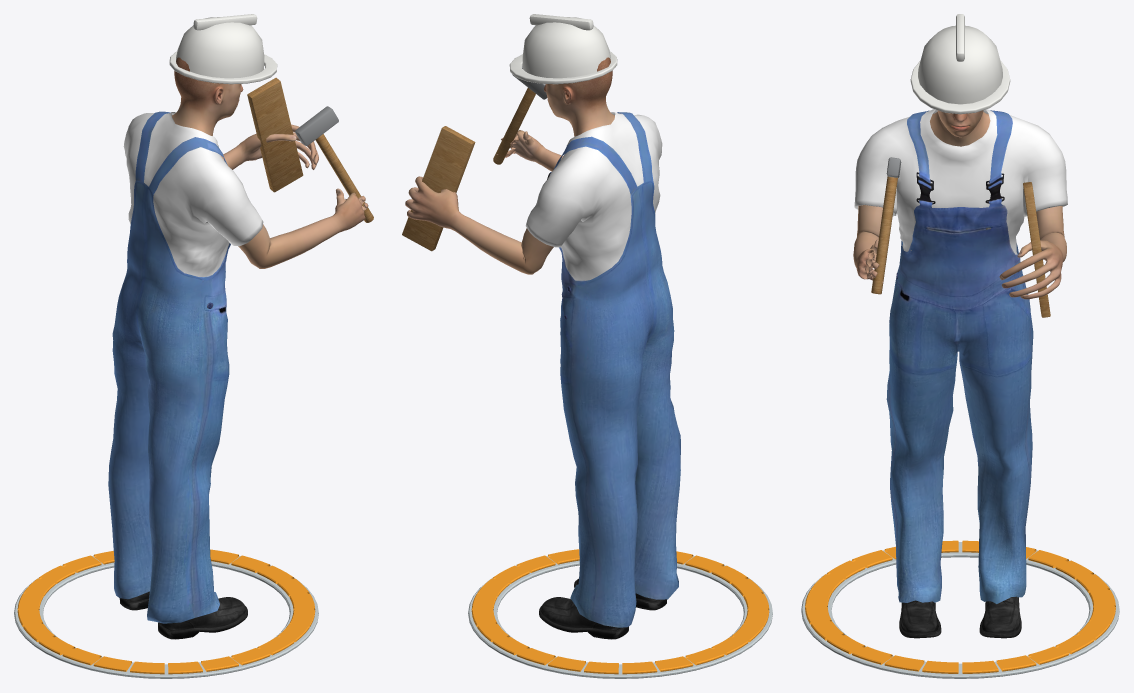
Rendered from MDO-OBR-003.glb.
3 renders of one model, left to right at view 1: azimuth 30°, elevation 25°; view 2: azimuth 150°, elevation 25°; view 3: azimuth 270°, elevation 25°, orthographic. The views are drawn at different scales.
Visible parts, largest first — view 1: MDO-OBR-003_pessoa_male_worksuit01, MDO-OBR-003_pessoa, MDO-OBR-003_capacete, MDO-OBR-003_ferE_tabua, MDO-OBR-003_anel_fundo, MDO-OBR-003_pessoa_shoes04, MDO-OBR-003_capacete_aba, MDO-OBR-003_ferD_cabeca, MDO-OBR-003_ferD_cabo, MDO-OBR-003_capacete_friso; view 2: MDO-OBR-003_pessoa_male_worksuit01, MDO-OBR-003_pessoa, MDO-OBR-003_capacete, MDO-OBR-003_anel_fundo, MDO-OBR-003_ferE_tabua, MDO-OBR-003_pessoa_shoes04, MDO-OBR-003_capacete_aba, MDO-OBR-003_ferD_cabo, MDO-OBR-003_capacete_friso; view 3: MDO-OBR-003_pessoa_male_worksuit01, MDO-OBR-003_pessoa, MDO-OBR-003_capacete, MDO-OBR-003_anel_fundo, MDO-OBR-003_pessoa_shoes04, MDO-OBR-003_capacete_aba, MDO-OBR-003_ferD_cabo, MDO-OBR-003_ferE_tabua.
Part boxes in pixels (box(x1,y1,x2,y2)): MDO-OBR-003_pessoa_male_worksuit01: box(108, 111, 263, 623); MDO-OBR-003_pessoa: box(172, 57, 368, 268); MDO-OBR-003_capacete: box(176, 17, 264, 78); MDO-OBR-003_ferE_tabua: box(247, 77, 303, 192); MDO-OBR-003_anel_fundo: box(14, 555, 318, 678); MDO-OBR-003_pessoa_shoes04: box(119, 591, 247, 639); MDO-OBR-003_capacete_aba: box(169, 51, 277, 84); MDO-OBR-003_ferD_cabeca: box(295, 106, 338, 145); MDO-OBR-003_ferD_cabo: box(315, 134, 373, 222); MDO-OBR-003_capacete_friso: box(193, 14, 257, 30); MDO-OBR-003_pessoa_male_worksuit01: box(525, 112, 680, 627); MDO-OBR-003_pessoa: box(405, 57, 614, 274); MDO-OBR-003_capacete: box(522, 17, 610, 78); MDO-OBR-003_anel_fundo: box(468, 556, 772, 678); MDO-OBR-003_ferE_tabua: box(402, 126, 475, 251); MDO-OBR-003_pessoa_shoes04: box(539, 578, 667, 639); MDO-OBR-003_capacete_aba: box(509, 51, 617, 84); MDO-OBR-003_ferD_cabo: box(493, 88, 535, 164); MDO-OBR-003_capacete_friso: box(529, 14, 593, 30); MDO-OBR-003_pessoa_male_worksuit01: box(854, 109, 1067, 603); MDO-OBR-003_pessoa: box(853, 110, 1066, 299); MDO-OBR-003_capacete: box(918, 25, 1002, 104); MDO-OBR-003_anel_fundo: box(801, 542, 1119, 678); MDO-OBR-003_pessoa_shoes04: box(899, 596, 1021, 638); MDO-OBR-003_capacete_aba: box(910, 60, 1010, 114); MDO-OBR-003_ferD_cabo: box(871, 176, 897, 294); MDO-OBR-003_ferE_tabua: box(1023, 182, 1050, 317).
Bounding box in the file's own units: 0.9869 × 1.79 × 0.84.
10 materials, 6 textured.
